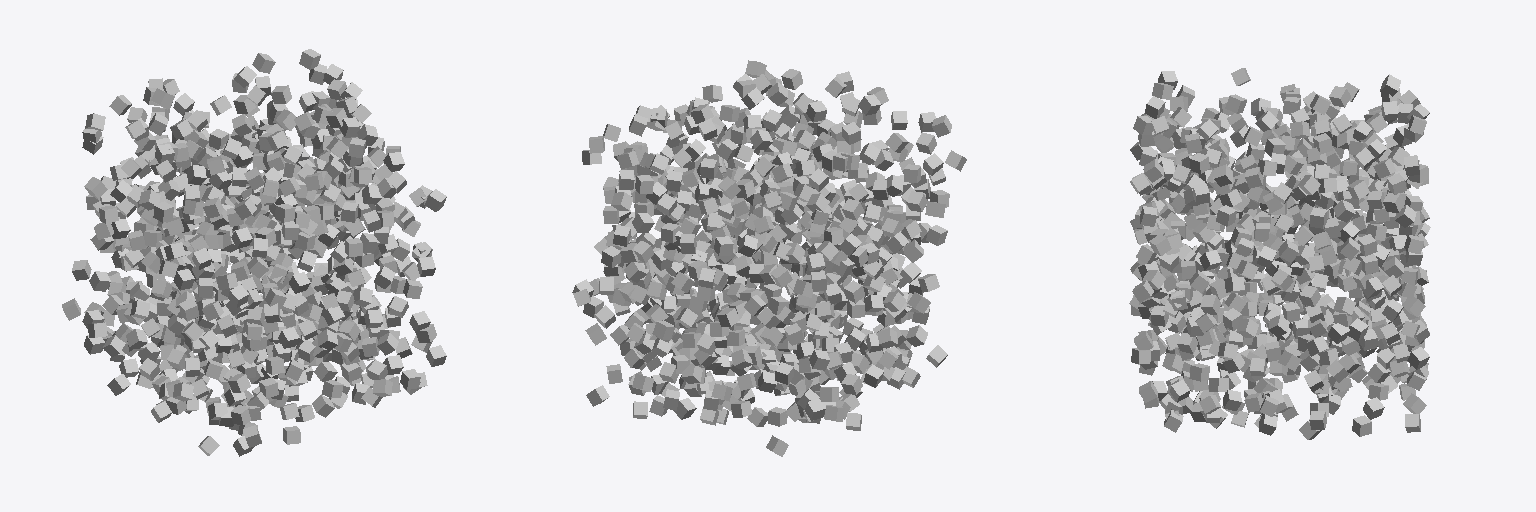
The model's file is environment.obj.
3 views of the same model, side by side, from view 1: azimuth 30°, elevation 25°; view 2: azimuth 150°, elevation 25°; view 3: azimuth 270°, elevation 25° (orthographic).
Parts seen in each view (by area): view 1: Cube.42208; view 2: Cube.42208; view 3: Cube.42208.
Boxes of the visible parts, box(x1,y1,x2,y2) form: Cube.42208: box(62, 49, 446, 456); Cube.42208: box(572, 60, 966, 456); Cube.42208: box(1129, 68, 1430, 439).
Size of the model in its own units: 215 by 216 by 216.